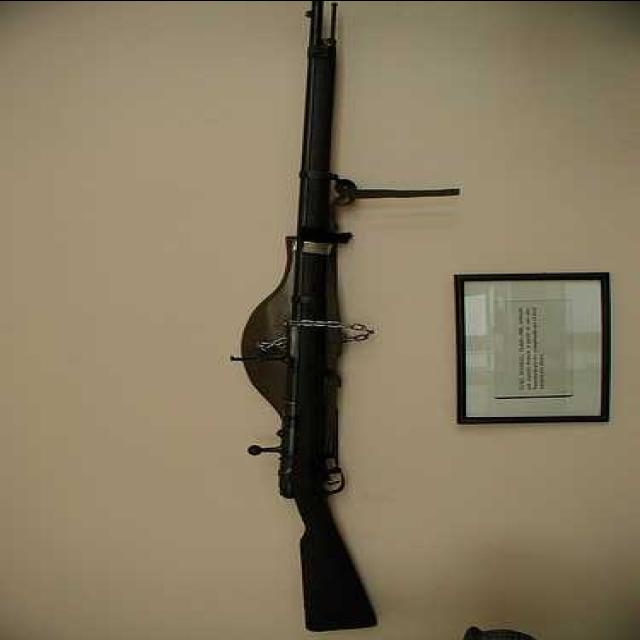heavyweapon: (245, 1, 424, 637)
